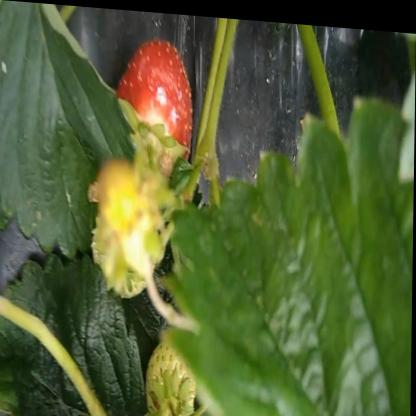ripe: (113, 29, 196, 158)
unripe: (91, 176, 165, 301), (144, 333, 199, 416)
